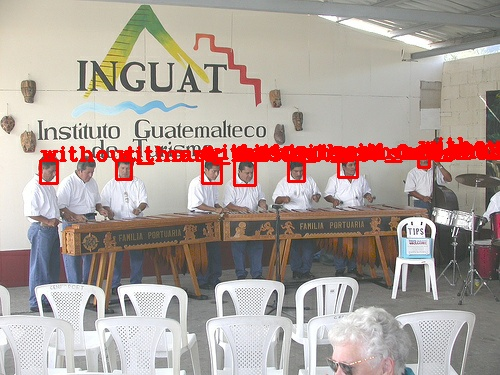without_mask: (35, 158, 59, 184), (74, 160, 97, 184), (115, 157, 136, 182), (203, 160, 224, 183), (236, 162, 257, 184), (287, 162, 307, 182), (417, 148, 434, 171), (341, 157, 359, 177)
